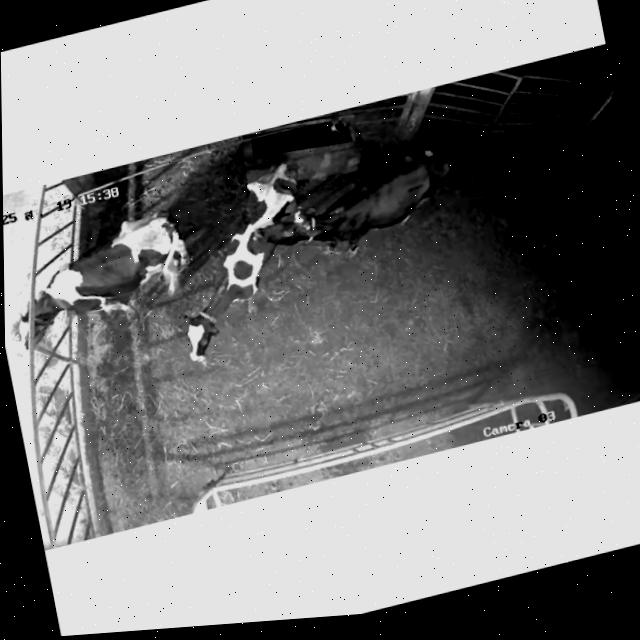stand: (185, 163, 295, 363), (256, 148, 450, 256)
